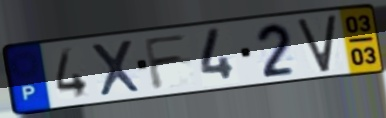2: (251, 19, 300, 82)
4: (198, 25, 240, 86), (54, 46, 91, 99)
F: (141, 31, 191, 92)
V: (295, 12, 338, 75)
X: (88, 37, 145, 99)
